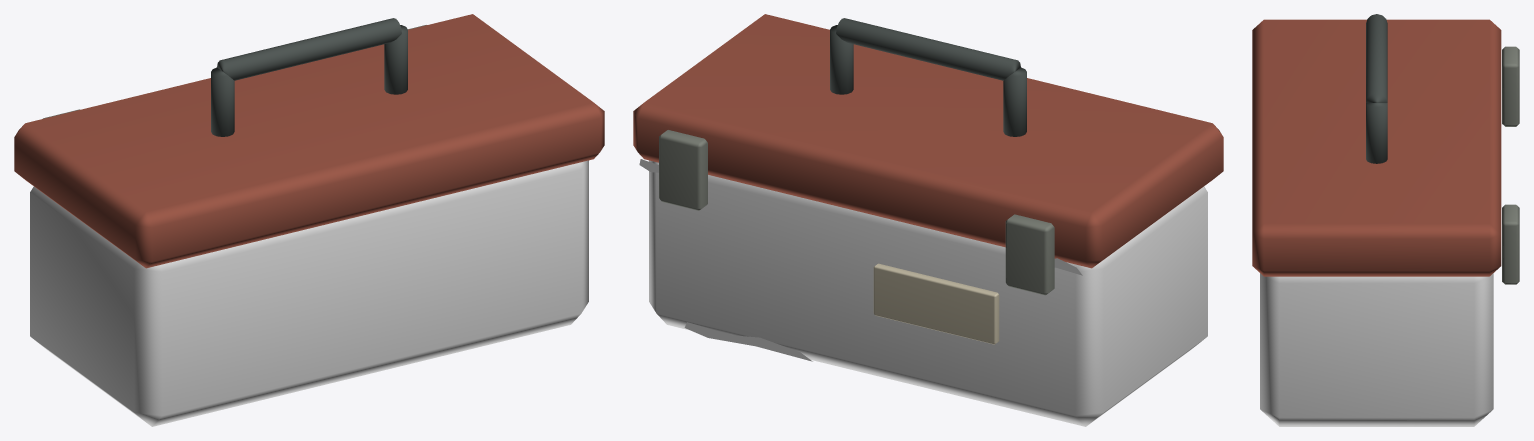
The model's file is Reuse_Toolbox02.fbx.
The picture shows the model from 3 angles, left to right: view 1: azimuth 30°, elevation 25°; view 2: azimuth 150°, elevation 25°; view 3: azimuth 270°, elevation 25°; orthographic projection. The views are drawn at different scales.
Visible parts, largest first — view 1: Reuse_Toolbox02; view 2: Reuse_Toolbox02; view 3: Reuse_Toolbox02.
Part boxes in pixels (<box>): Reuse_Toolbox02: <box>14,14,604,426</box>; Reuse_Toolbox02: <box>633,14,1223,426</box>; Reuse_Toolbox02: <box>1252,14,1519,426</box>.
Size of the model in its own units: 65 by 39.4 by 34.35.
